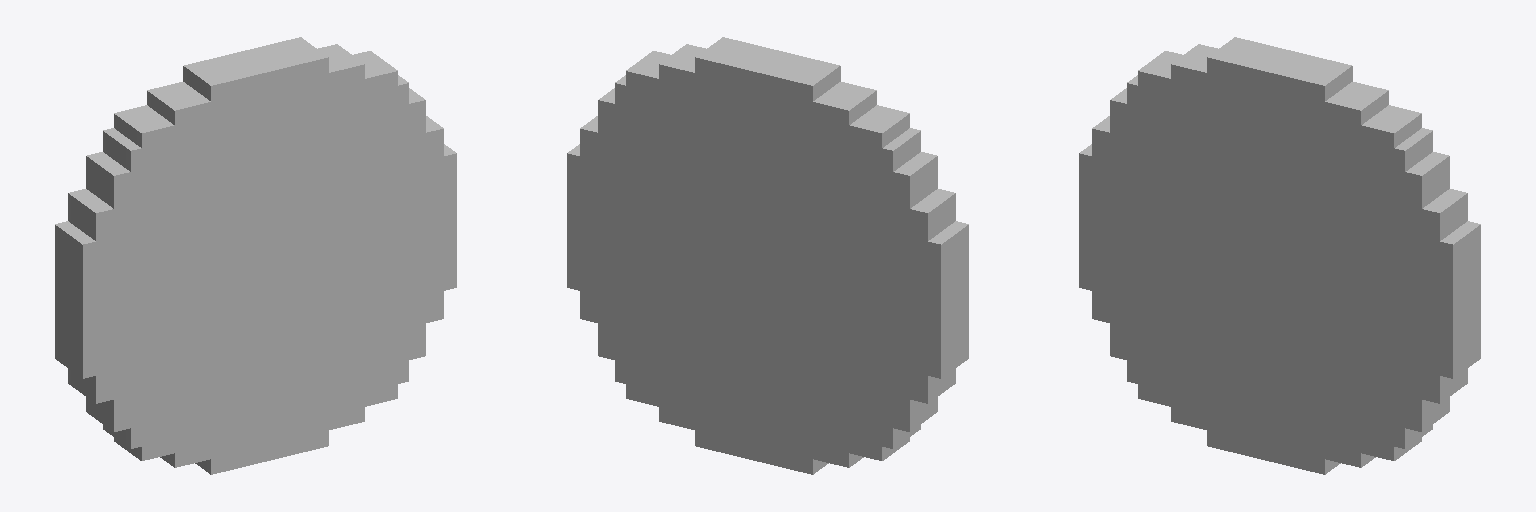
The model's file is HectiCoin2.obj.
The picture shows the model from 3 angles: view 1: azimuth 30°, elevation 25°; view 2: azimuth 150°, elevation 25°; view 3: azimuth 330°, elevation 25°; orthographic projection.
Parts seen in each view (by area): view 1: Cube_Cube.001; view 2: Cube_Cube.001; view 3: Cube_Cube.001.
Part boxes in pixels (left/top/right/bottom): Cube_Cube.001: left=55, top=37, right=456, bottom=474; Cube_Cube.001: left=567, top=37, right=968, bottom=474; Cube_Cube.001: left=1079, top=37, right=1480, bottom=474.
Bounding box in the file's own units: 0.9621 × 0.9547 × 0.1237.